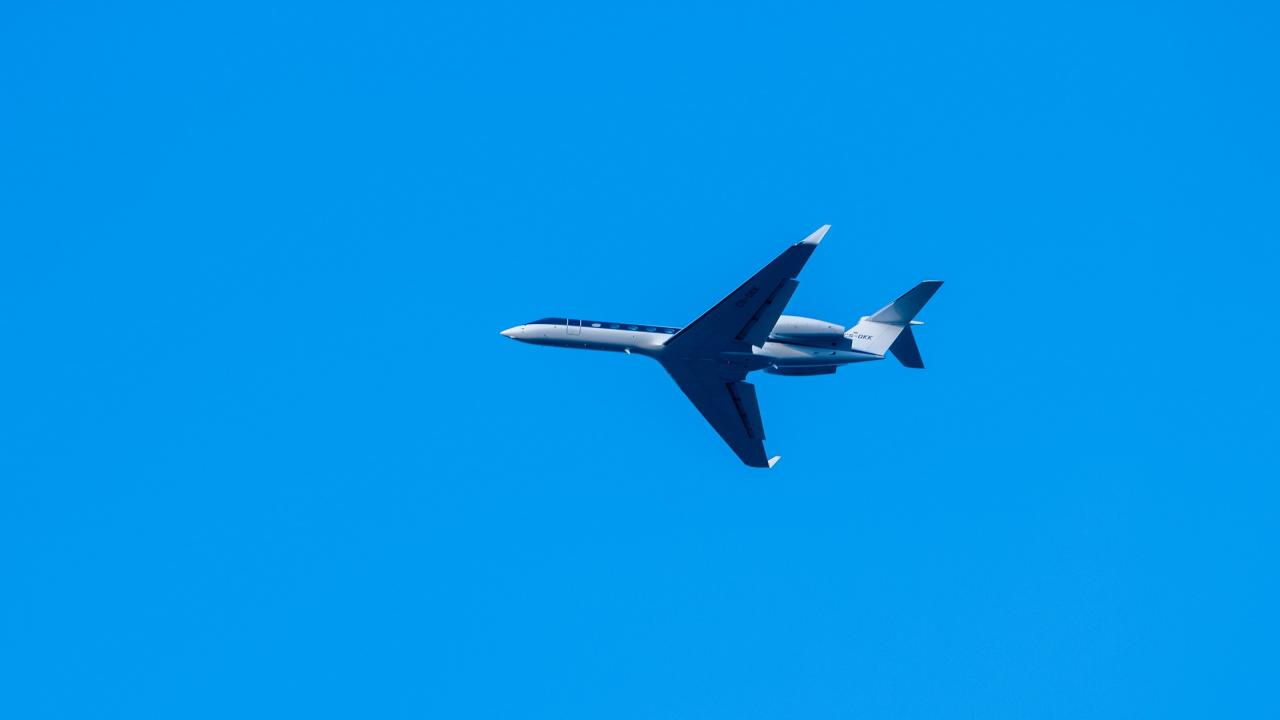Airplane: (488, 212, 962, 479)
